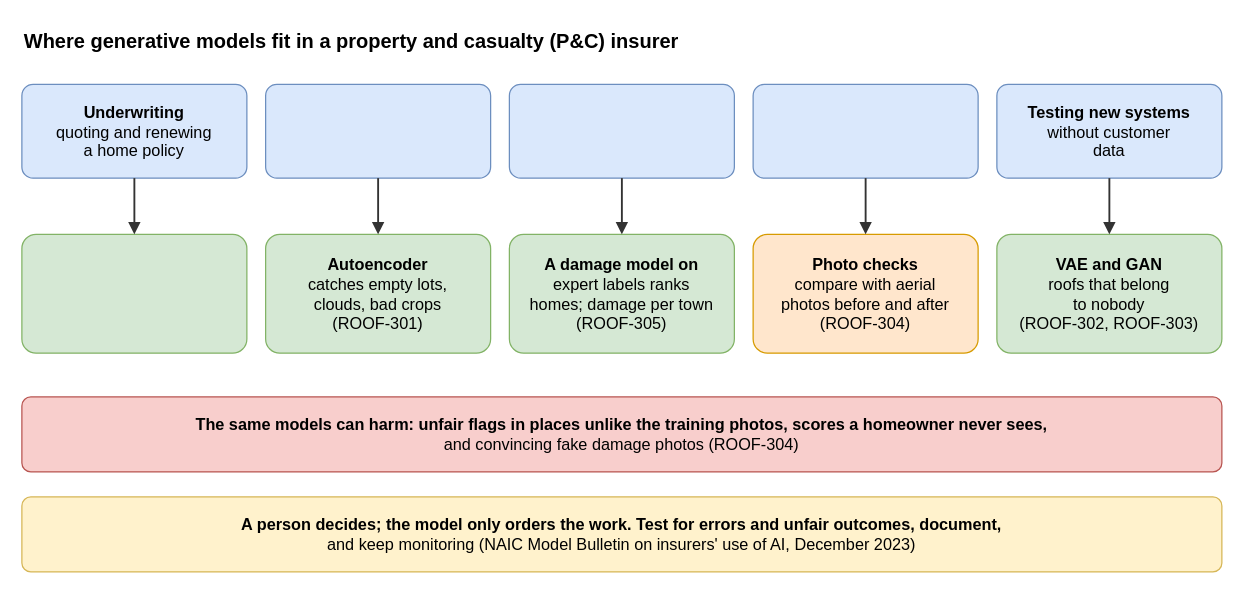
The diagram is 1244 pixels wide and 594 high, and some of its shapes have lost their labels. The centre of each missing label's shape, as x and y in pixels:
After a storm thousands of claims in a few days: the point at 621,130
Autoencoder flags unusual roofs for an inspection (ROOF-301): the point at 134,293
Claims photos sent in by policyholders: the point at 865,130
Image quality every photo a model will read: the point at 377,130
